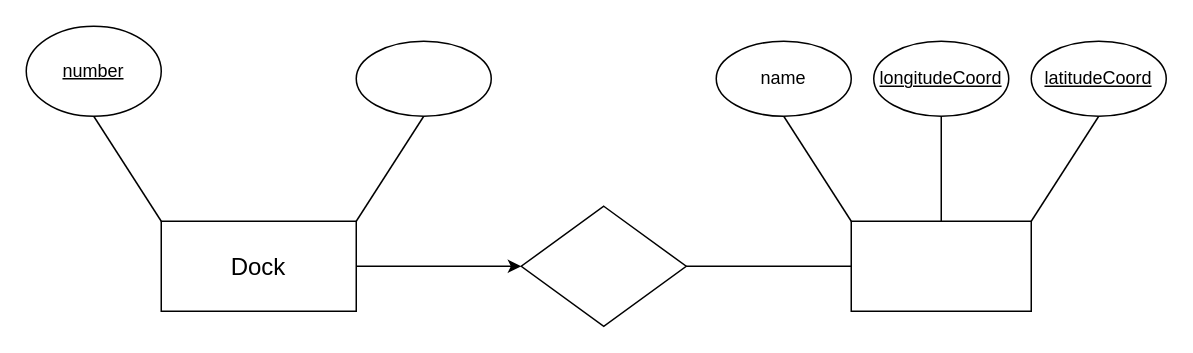
This 1193x353 diagram has some shape labels left out. Each missing label, with the centre of its shape:
Belongs: (x=603, y=265)
isDefect: (x=423, y=78)
Station: (x=940, y=265)
